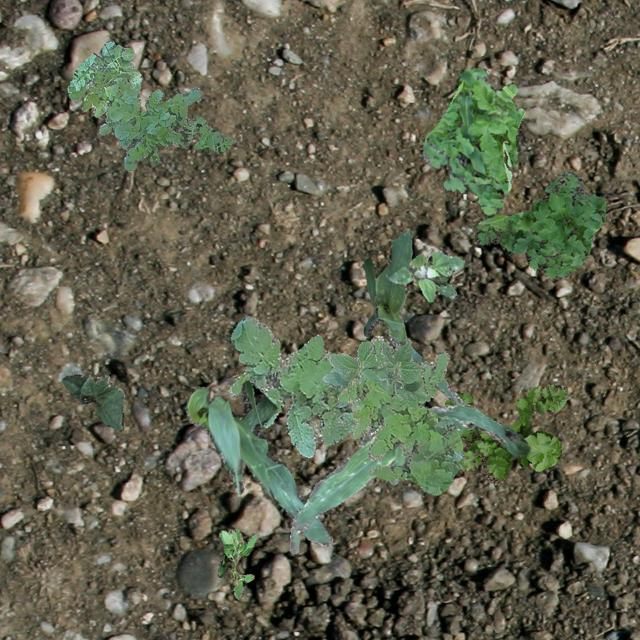crop: (287, 404, 528, 554), (185, 380, 332, 546), (360, 228, 462, 404), (322, 338, 428, 402), (60, 374, 124, 429)
weed: (228, 316, 472, 456), (66, 40, 232, 172), (422, 66, 524, 216), (337, 376, 462, 494), (474, 168, 606, 278), (444, 382, 566, 484), (388, 250, 462, 300), (216, 528, 258, 598)
